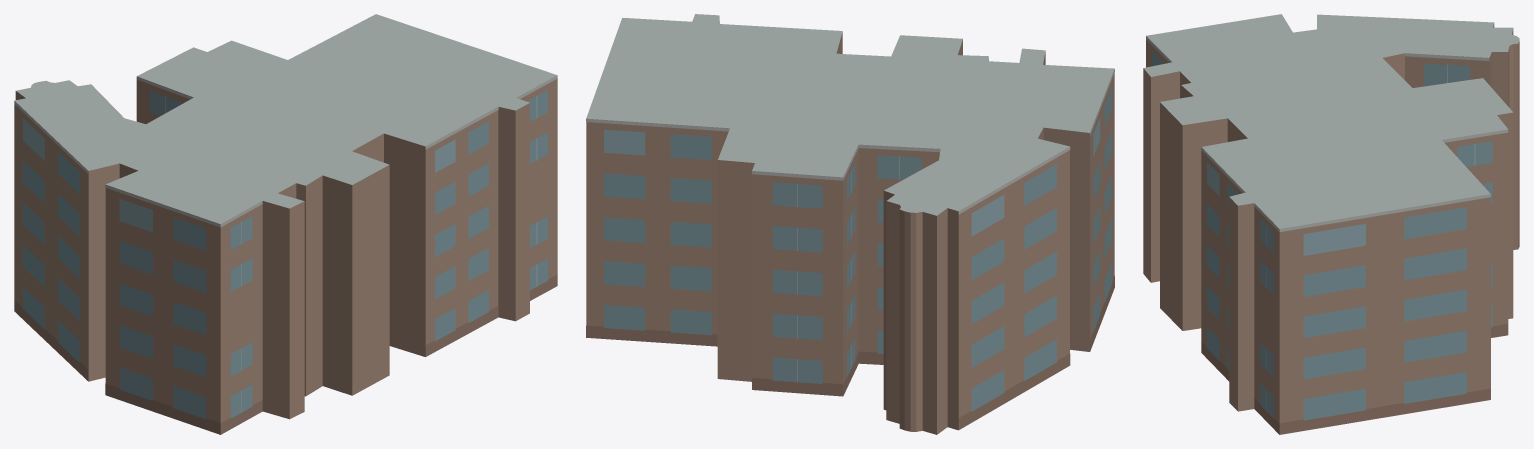
File: survey-upis-32679357.glb
3 renders of one model, left to right at view 1: azimuth 30°, elevation 25°; view 2: azimuth 150°, elevation 25°; view 3: azimuth 270°, elevation 25°, orthographic. The views are drawn at different scales.
Parts seen in each view (by area): view 1: survey-upis-32679357.tmp; view 2: survey-upis-32679357.tmp; view 3: survey-upis-32679357.tmp.
Part boxes in pixels (x1=…): survey-upis-32679357.tmp: x1=14, y1=14, x2=557, y2=434; survey-upis-32679357.tmp: x1=586, y1=14, x2=1114, y2=434; survey-upis-32679357.tmp: x1=1143, y1=14, x2=1519, y2=434.
Bounding box in the file's own units: 35.18 × 15.7 × 25.99.
